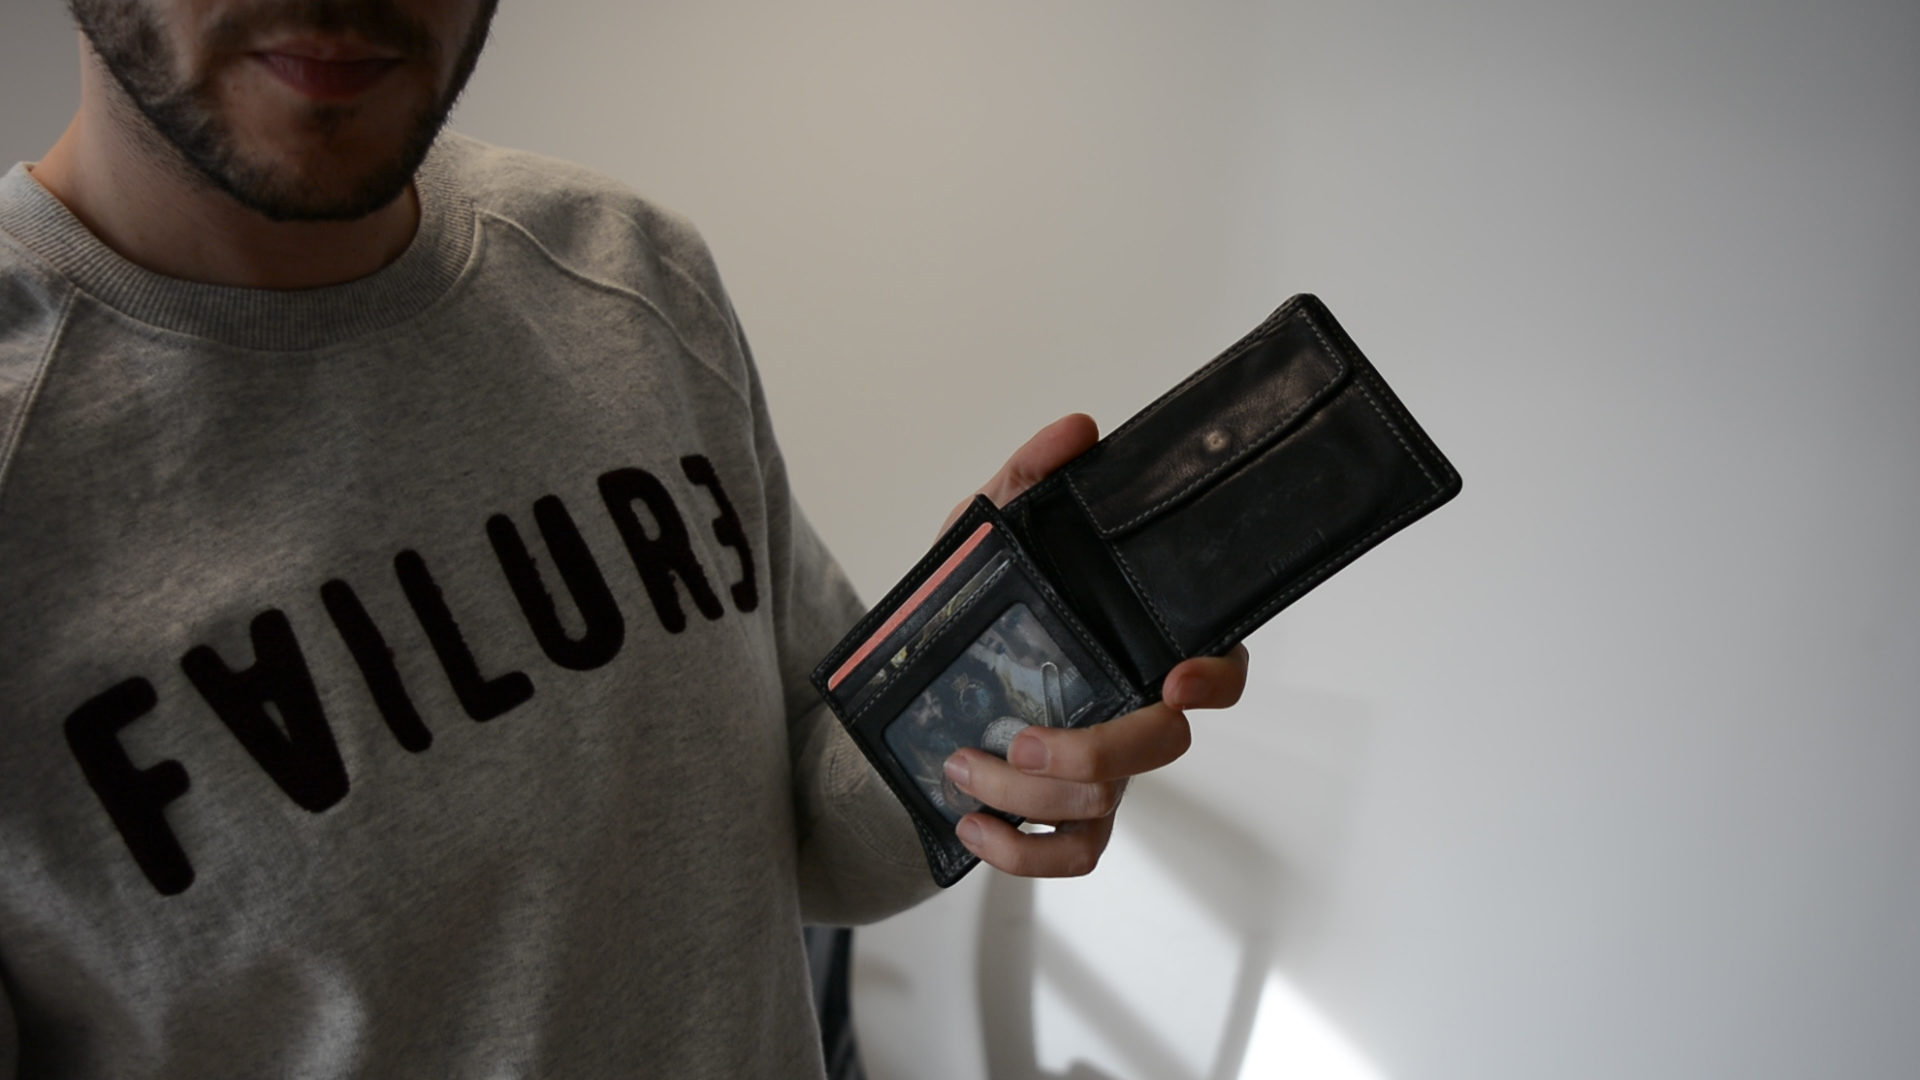monedero: (806, 290, 1469, 891)
